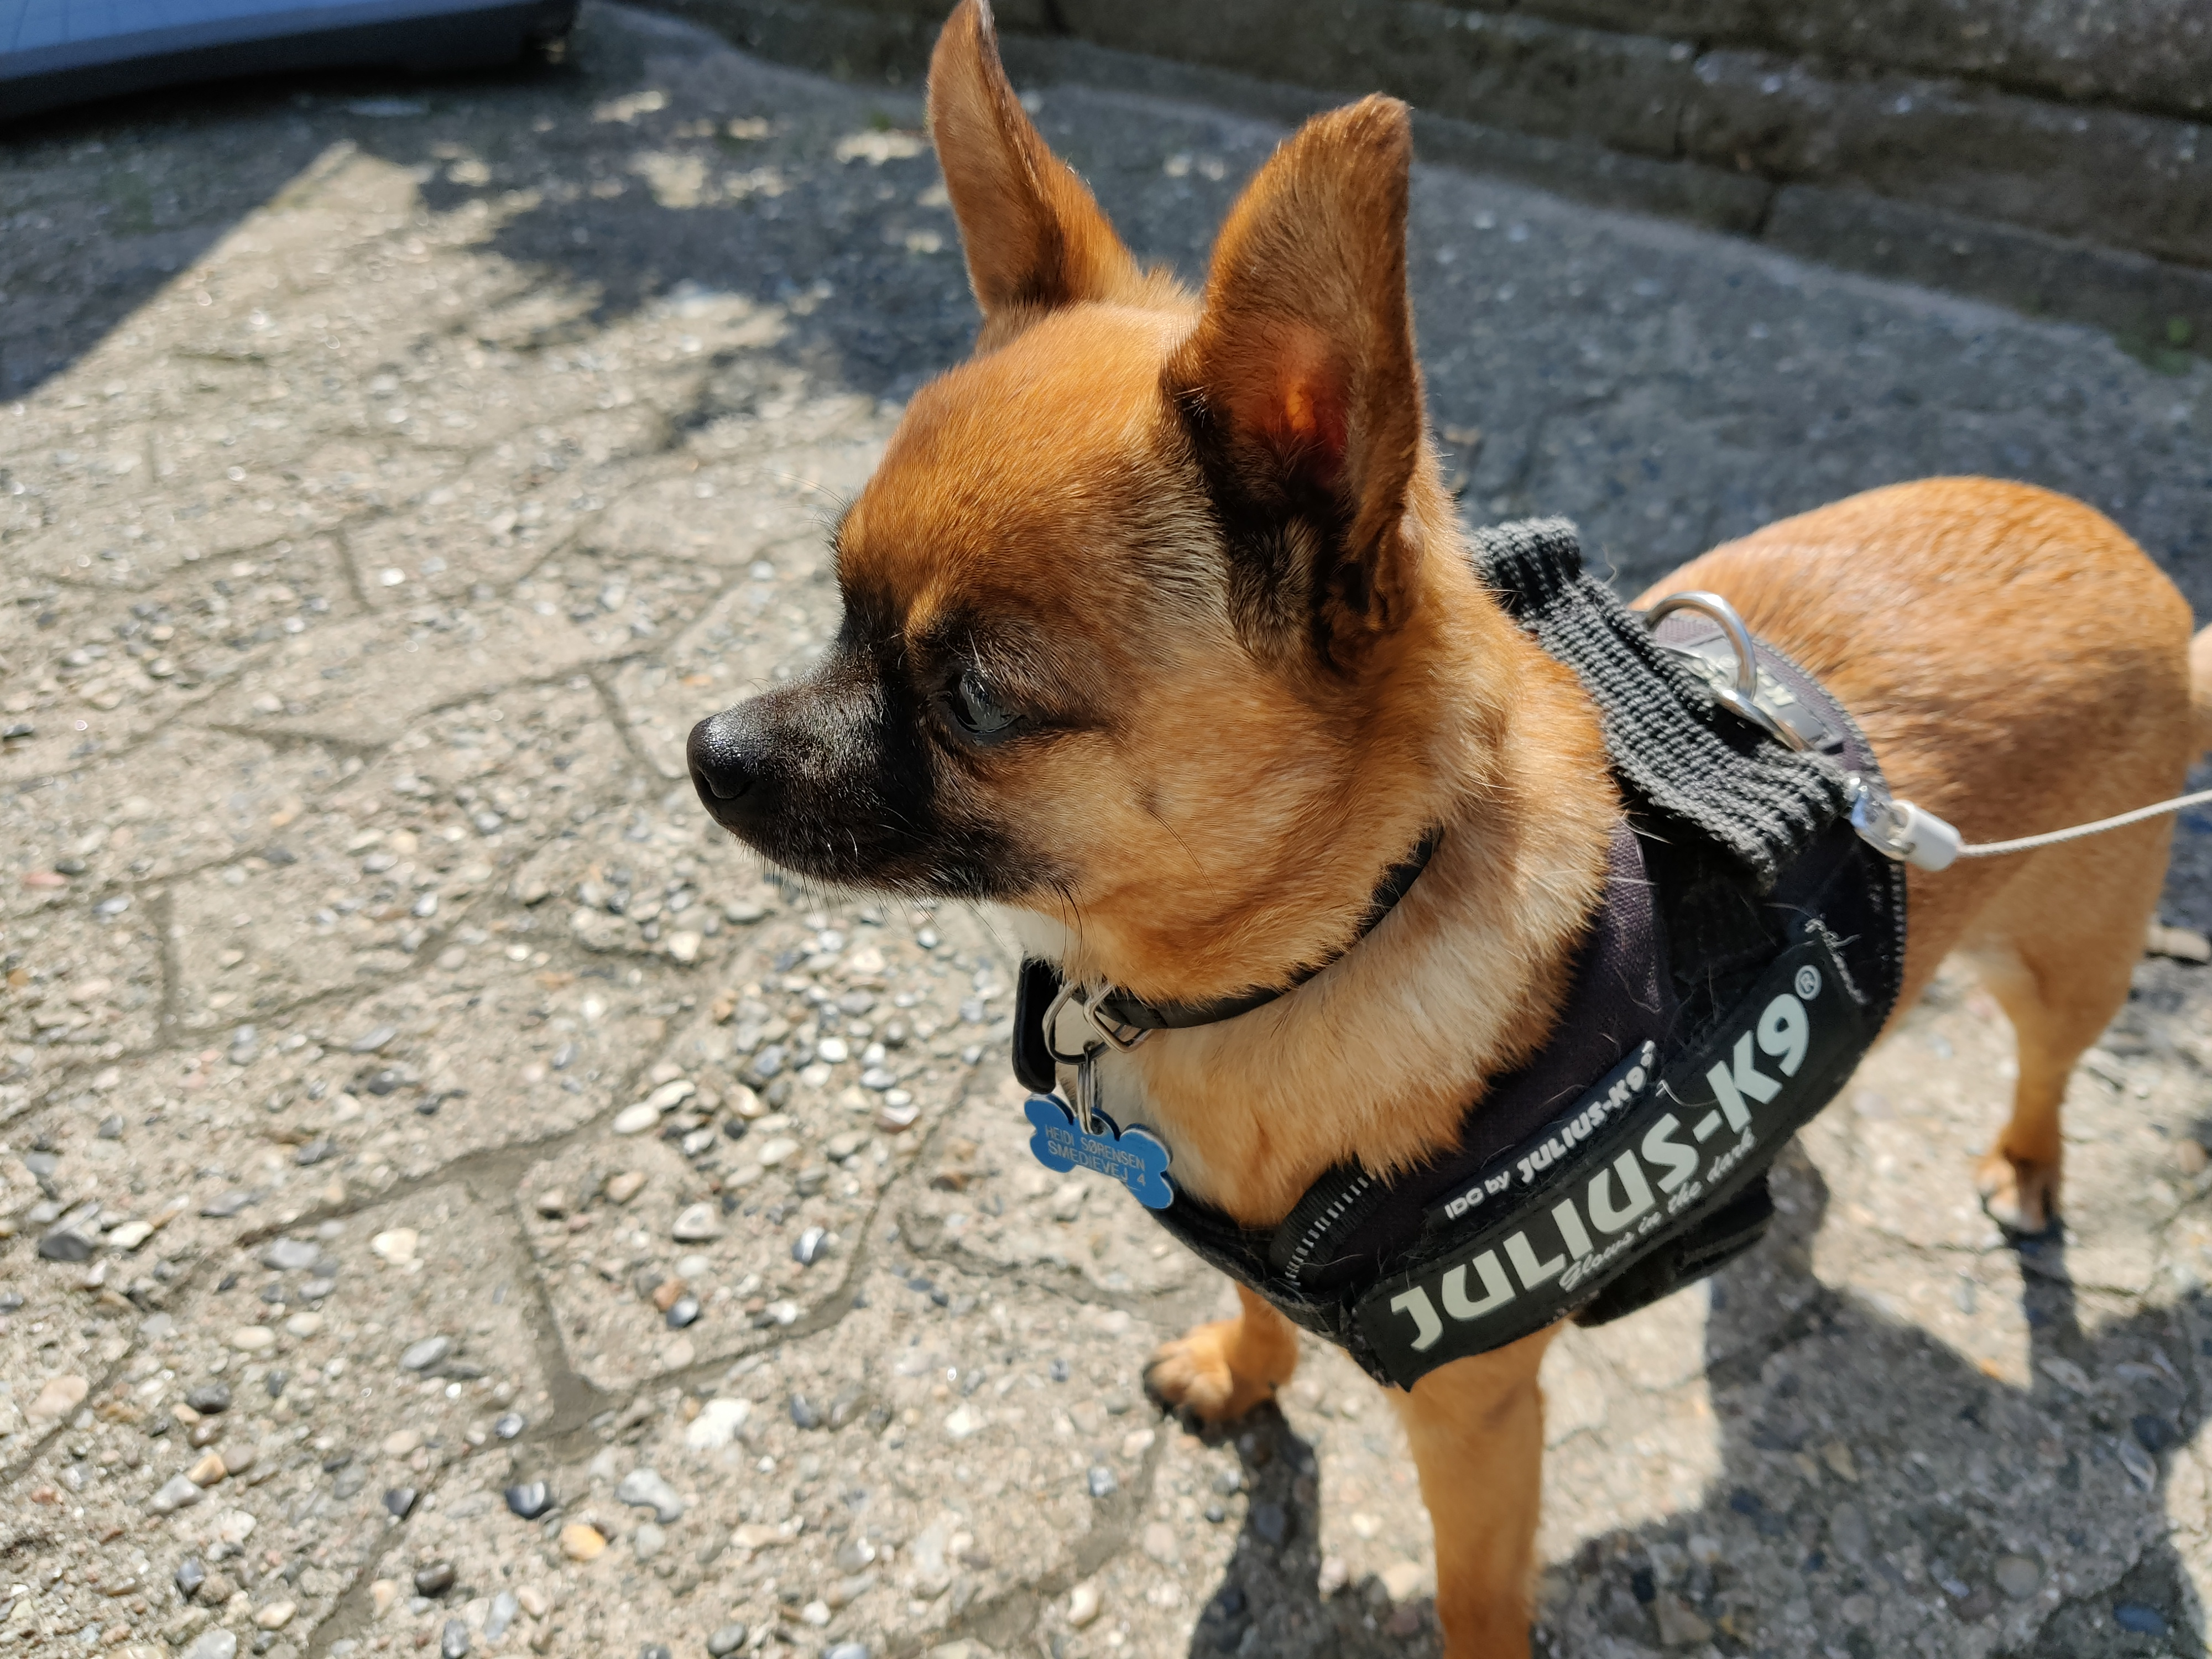Dog: (660, 0, 2212, 1659)
